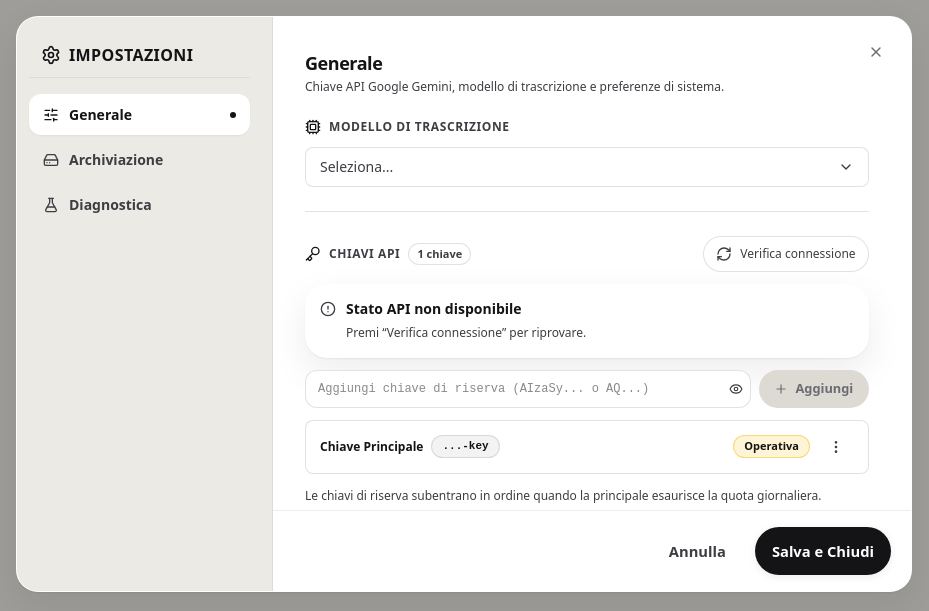
Test: SettingsModal — diagnostics environment pending checks › shows pending environment checks with "da verificare" status initially
Click the button "Diagnostica" at (140, 204), box x1=29 y1=184 x2=250 y2=225
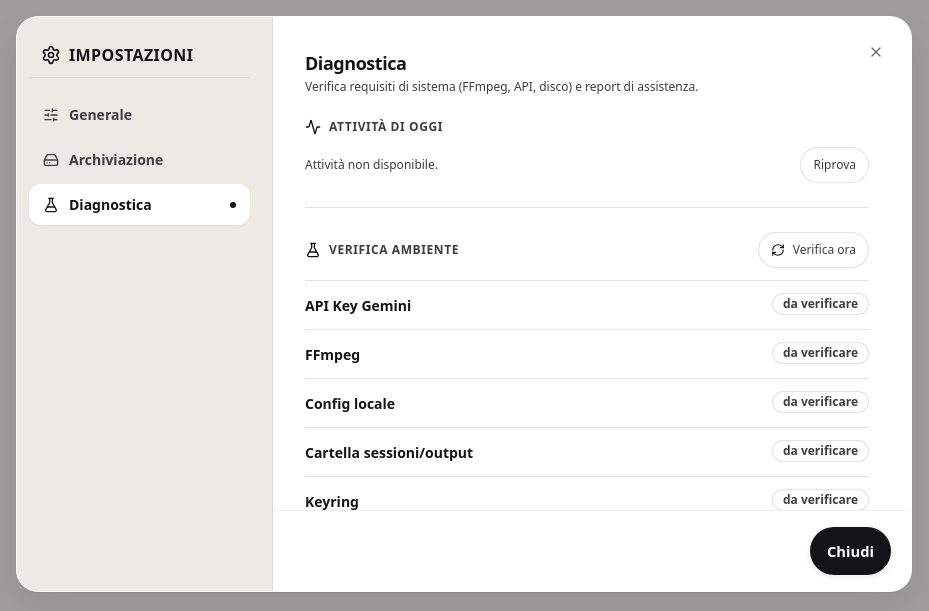
Expected: the text "API Key Gemini" is shown, x1=305 y1=296 x2=411 y2=315
Expected: the text "FFmpeg" is shown, x1=305 y1=345 x2=360 y2=364
Expected: the text "Config locale" is shown, x1=305 y1=394 x2=395 y2=413
